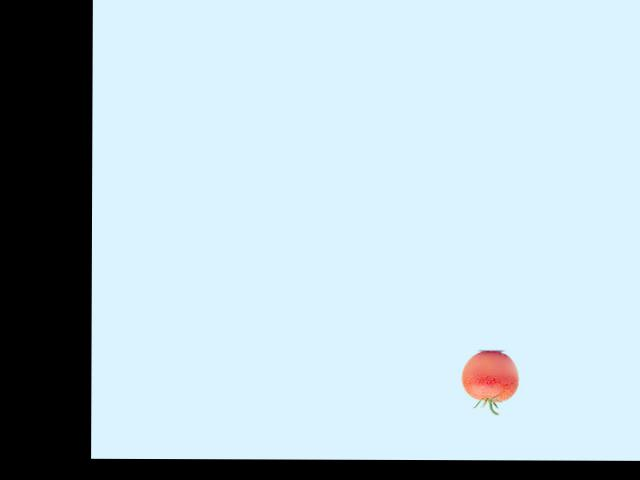tomato: (461, 351, 518, 401)
